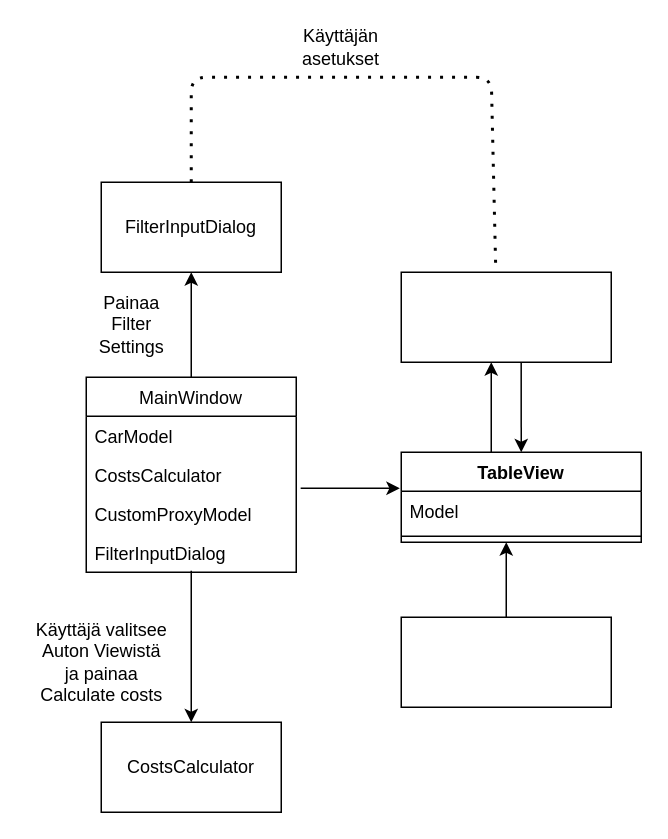
Image size: 668x839. Some labels were removed from this diagram. Each missing label, with the centre of its shape:
CarModel (QAbstractTableModel): [505,661]
CustomProxyModel (QSortFilterProxyModel): [505,316]
